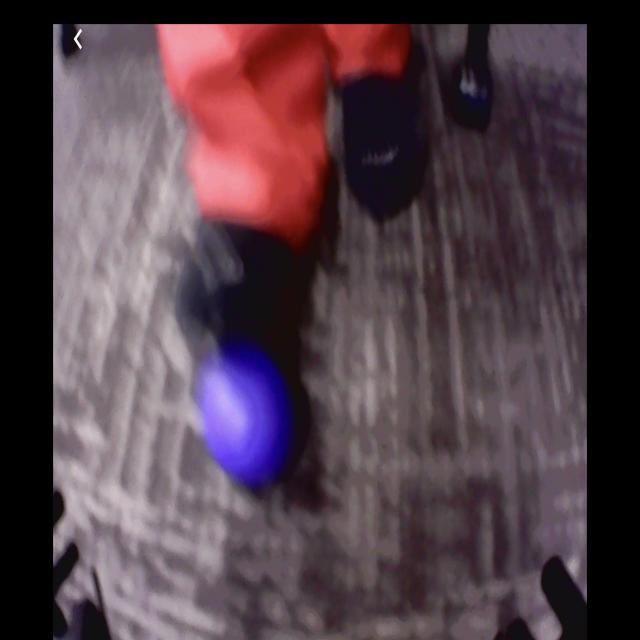ball: (204, 354, 291, 484)
